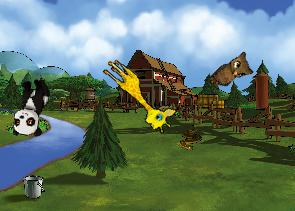giraffe: (93, 55, 181, 137)
owl: (206, 47, 259, 100)
panda: (10, 75, 51, 139)
